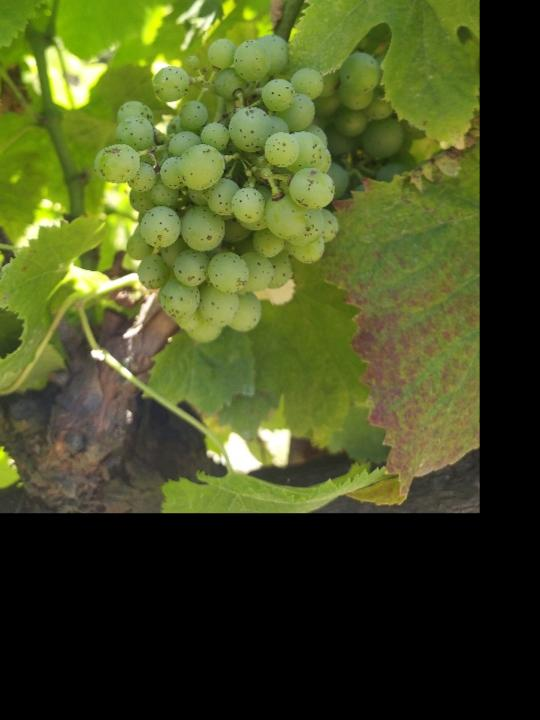grape: (93, 33, 342, 344)
